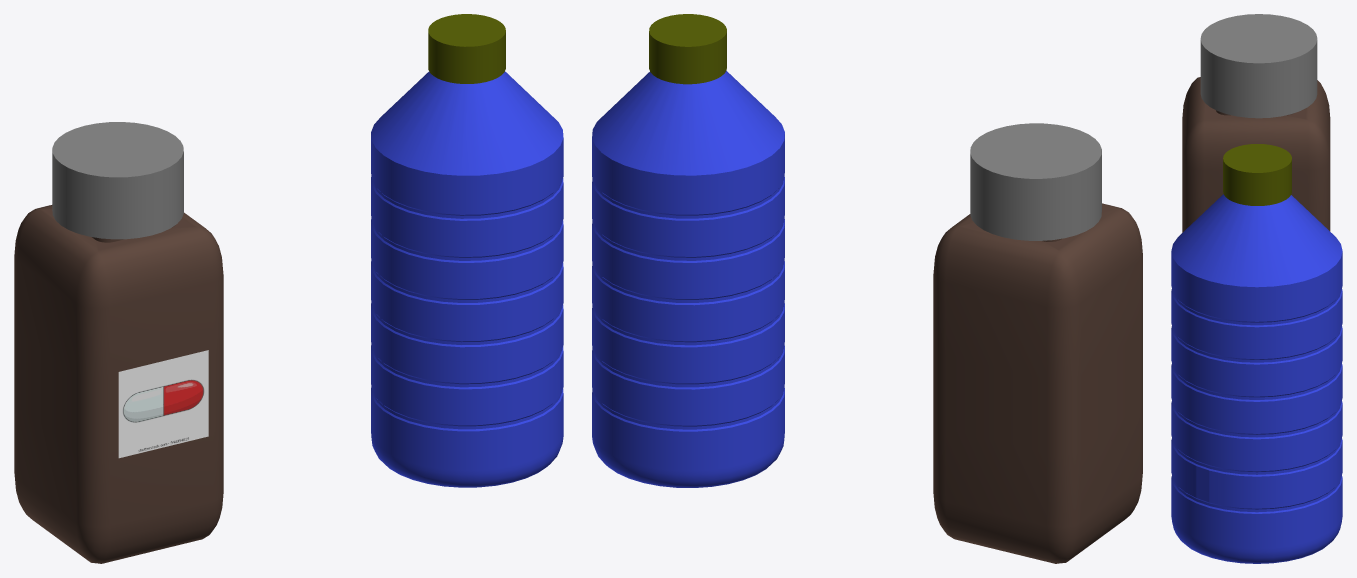
The model's file is bottles.gltf.
3 renders of one model, left to right at view 1: azimuth 30°, elevation 25°; view 2: azimuth 150°, elevation 25°; view 3: azimuth 270°, elevation 25°, orthographic. The views are drawn at different scales.
Visible parts, largest first — view 1: Cube, Cylinder.002; view 2: Cube, Cylinder.002; view 3: Cylinder.002, Cube.
Boxes of the visible parts, x1,y1,x2,y2 form: Cube: (14, 122, 223, 563); Cylinder.002: (371, 14, 563, 487); Cube: (933, 123, 1142, 563); Cylinder.002: (592, 14, 784, 487); Cylinder.002: (1171, 144, 1342, 563); Cube: (1182, 14, 1330, 232).
Size of the model in its own units: 6.04 by 4.81 by 2.
Materials: 5 (1 with a texture image).
